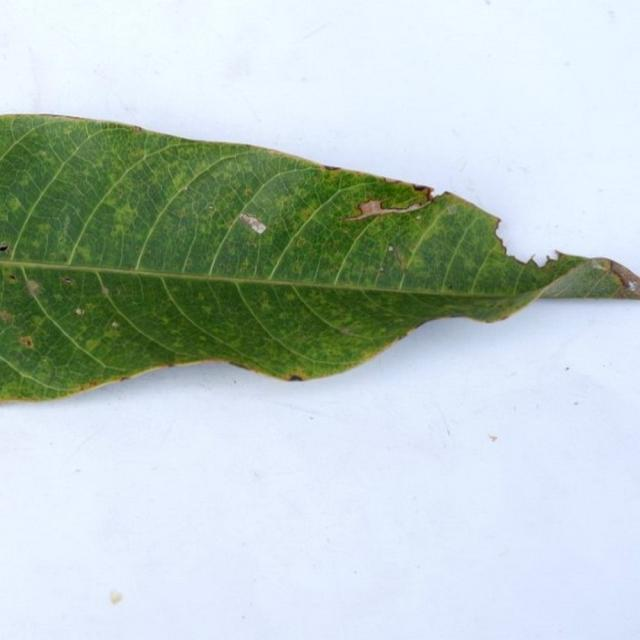Mango: (0, 115, 639, 401)
Powdery_Mildew: (65, 203, 94, 267), (114, 203, 144, 241), (485, 216, 509, 258), (385, 191, 429, 211), (98, 187, 127, 212), (354, 199, 387, 218), (407, 184, 435, 206), (239, 213, 267, 234), (251, 233, 263, 277), (553, 249, 587, 263), (388, 245, 405, 271), (114, 203, 136, 223), (540, 252, 561, 270), (23, 279, 42, 297), (173, 204, 193, 219), (5, 195, 22, 212), (76, 380, 101, 391), (111, 221, 128, 237), (491, 215, 502, 239), (62, 213, 71, 242), (229, 362, 254, 372), (106, 322, 122, 337), (264, 148, 290, 157), (35, 222, 52, 235), (85, 338, 100, 352), (0, 310, 15, 324), (110, 589, 123, 605), (442, 204, 459, 216), (590, 260, 608, 271), (19, 335, 34, 348), (438, 190, 454, 200), (259, 300, 272, 311), (553, 249, 565, 260), (291, 264, 303, 274), (100, 284, 110, 296), (339, 327, 354, 335), (607, 9, 617, 21), (61, 276, 74, 285), (396, 331, 409, 340), (288, 374, 304, 381), (0, 243, 11, 253), (627, 280, 637, 291), (323, 165, 341, 171), (129, 265, 142, 272), (527, 254, 536, 264), (546, 254, 556, 263), (243, 188, 254, 196), (203, 306, 213, 314), (75, 308, 84, 316), (119, 375, 131, 381), (38, 150, 48, 157), (132, 125, 143, 131), (8, 274, 17, 281), (500, 314, 510, 320), (484, 317, 494, 323), (112, 321, 119, 328), (166, 362, 175, 367), (447, 283, 454, 289), (484, 0, 491, 6), (206, 205, 214, 210), (64, 256, 70, 262), (379, 267, 384, 272), (388, 246, 393, 251), (416, 215, 421, 220), (184, 186, 188, 191)
